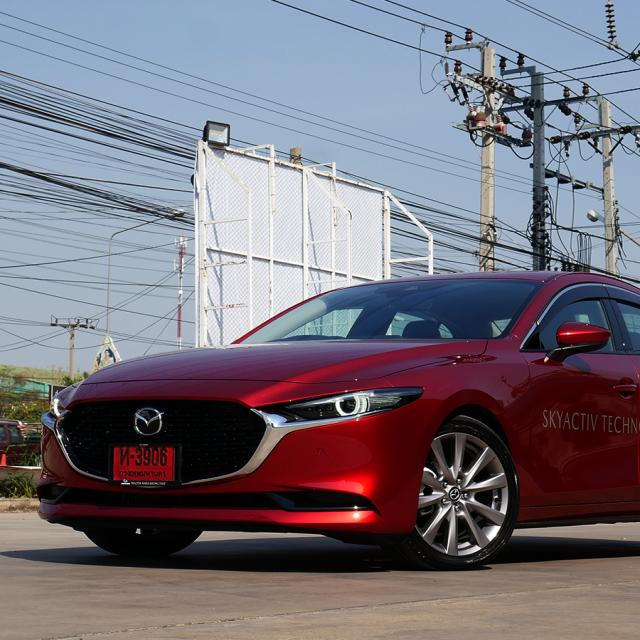license_plate: (105, 442, 181, 491)
